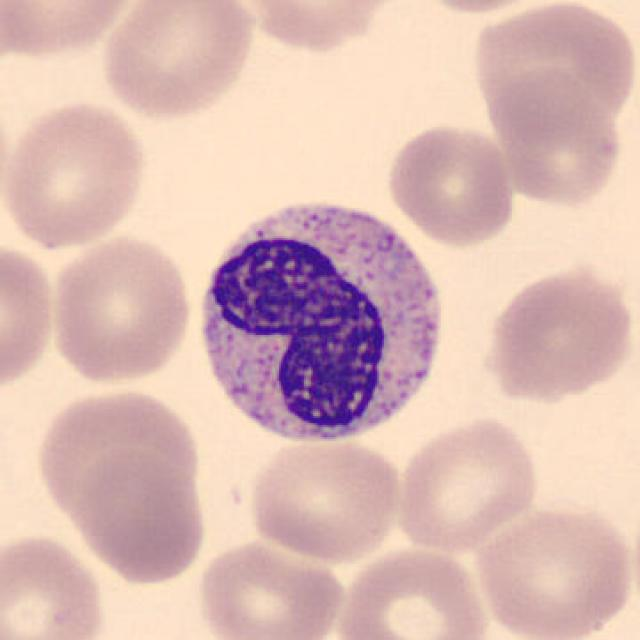Neutrophil: (187, 189, 453, 455)
RBC: (31, 384, 204, 528), (468, 497, 636, 640), (468, 0, 638, 141), (46, 231, 194, 388), (2, 97, 151, 252), (476, 261, 636, 405), (245, 430, 406, 564), (393, 412, 542, 554), (96, 0, 259, 123), (71, 448, 210, 587), (489, 72, 627, 212), (382, 120, 519, 248), (194, 536, 348, 640), (334, 543, 492, 640), (0, 529, 110, 640), (0, 236, 60, 394), (231, 0, 402, 55), (2, 0, 146, 62), (406, 0, 564, 16)
